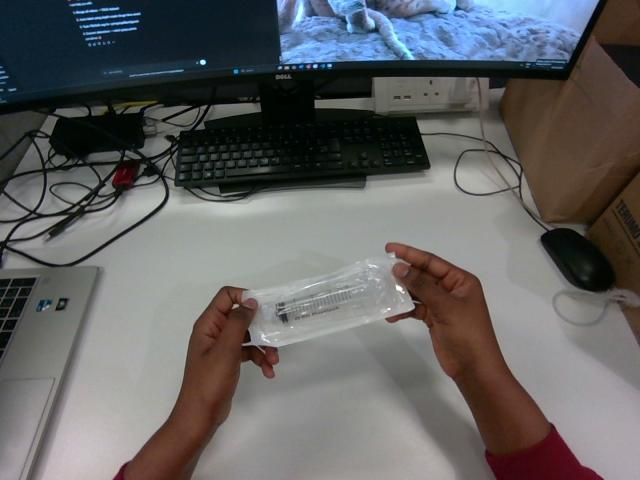syringe: (242, 254, 413, 346)
